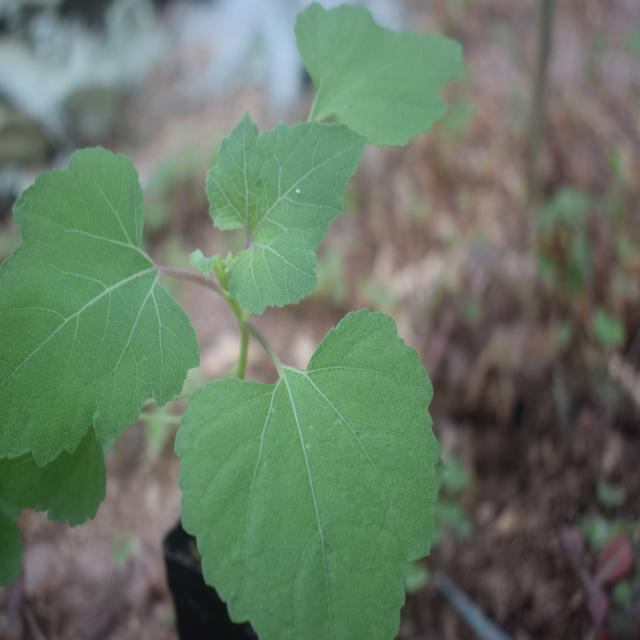cocklebur: (11, 59, 487, 631)
